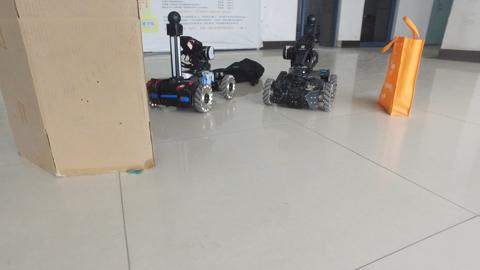bag: (386, 14, 422, 118)
chariot: (147, 10, 244, 116), (264, 11, 337, 111)
